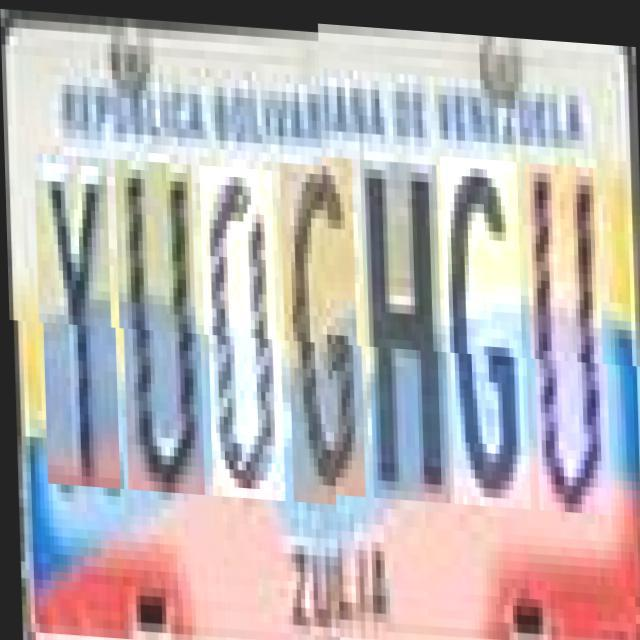0: (202, 162, 282, 496)
G: (444, 159, 528, 510), (283, 158, 363, 501)
H: (363, 163, 448, 505)
U: (528, 163, 608, 514), (118, 158, 202, 491)
Y: (38, 153, 118, 486)
